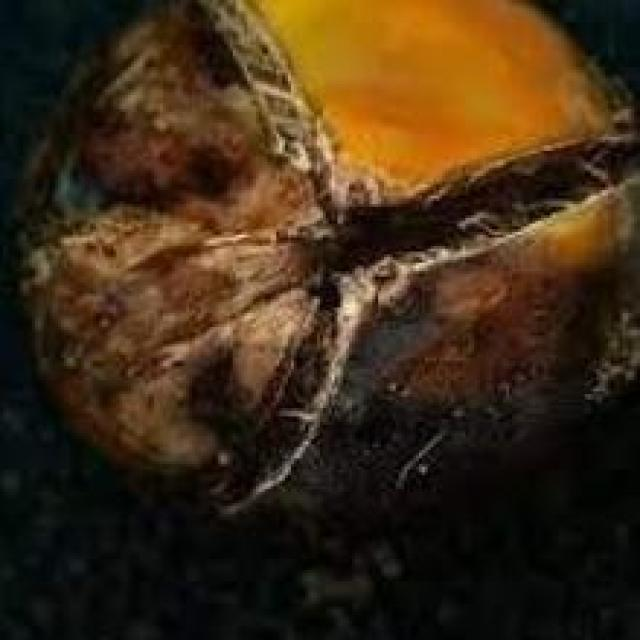damaged: (20, 0, 637, 548)
